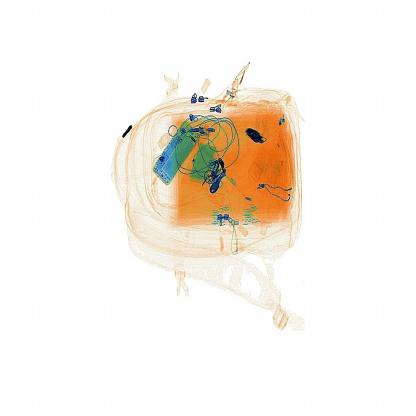scissors: (233, 123, 269, 156)
